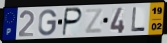2: (18, 10, 36, 38)
4: (109, 6, 127, 35)
G: (37, 9, 58, 37)
L: (130, 7, 146, 33)
P: (61, 7, 84, 37)
Z: (84, 7, 104, 35)
